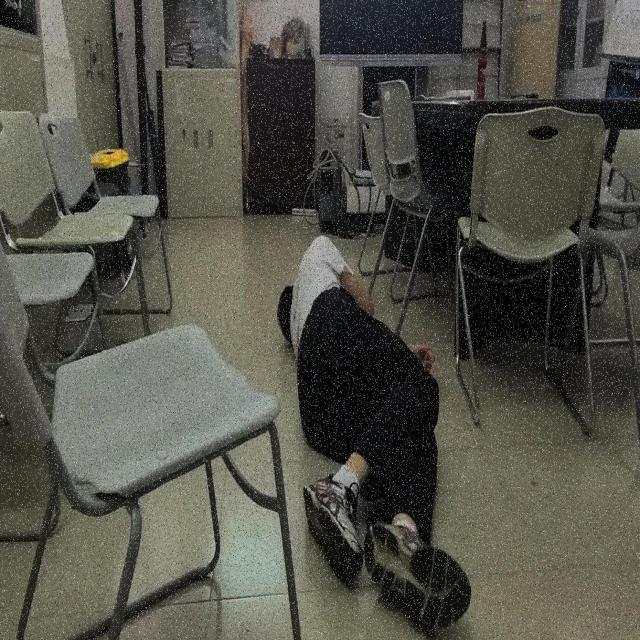fall: (271, 231, 478, 638)
